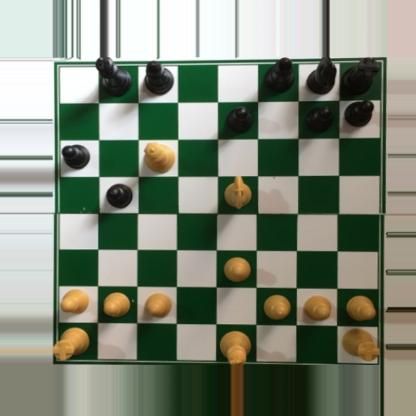black-bishop: (143, 59, 176, 97), (263, 57, 295, 96)
black-king: (94, 57, 134, 99)
black-knight: (306, 57, 337, 97)
black-pawn: (342, 98, 376, 128), (303, 105, 333, 134), (224, 107, 253, 135), (61, 143, 91, 170), (105, 183, 134, 209)
black-rook: (338, 57, 380, 97)
white-king: (217, 330, 252, 365)
white-knight: (223, 173, 253, 209)
white-pawn: (342, 294, 376, 324), (301, 293, 333, 323), (100, 290, 132, 320), (59, 285, 91, 315), (142, 291, 174, 319), (261, 294, 292, 322), (221, 257, 252, 283)
white-queen: (142, 140, 176, 174)
white-rook: (339, 325, 380, 363), (53, 325, 91, 362)
